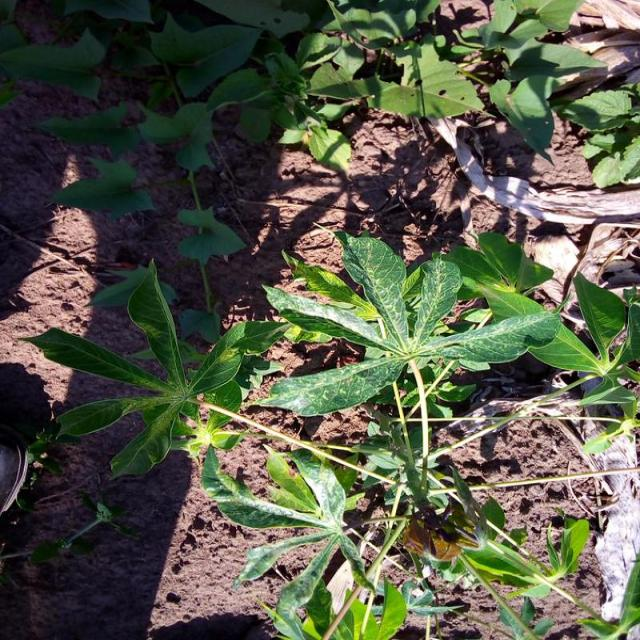cassava leaf: (250, 227, 562, 418)
